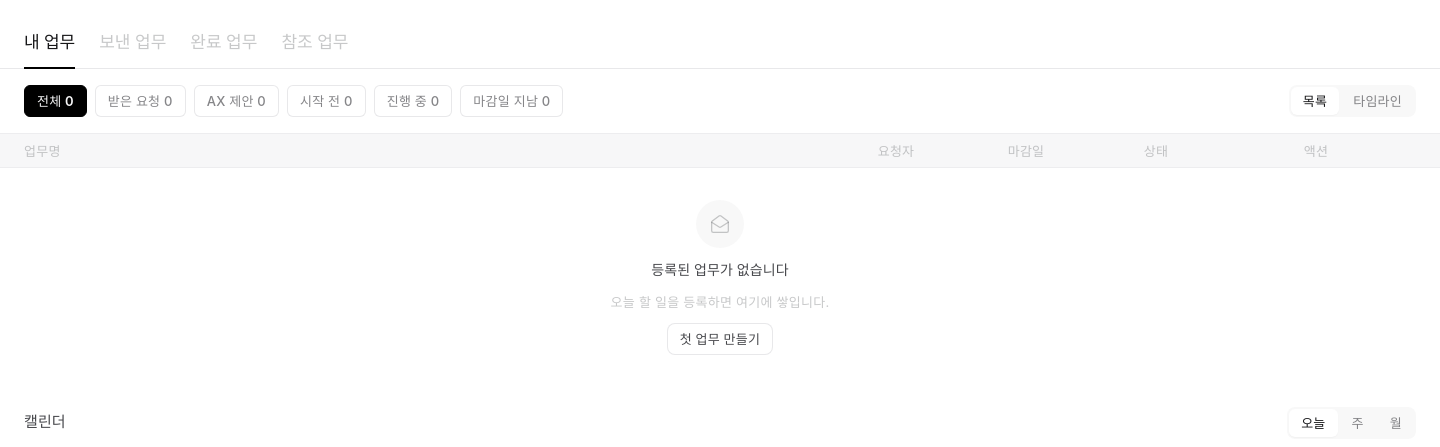
Test: work relation information architecture › keeps requests and assignments in one 보낸 업무 table while telling them apart on the row
(page scrolled)
Step 1. Click the tab "보낸 업무" → (133, 42), box left=99, top=16, right=166, bottom=68
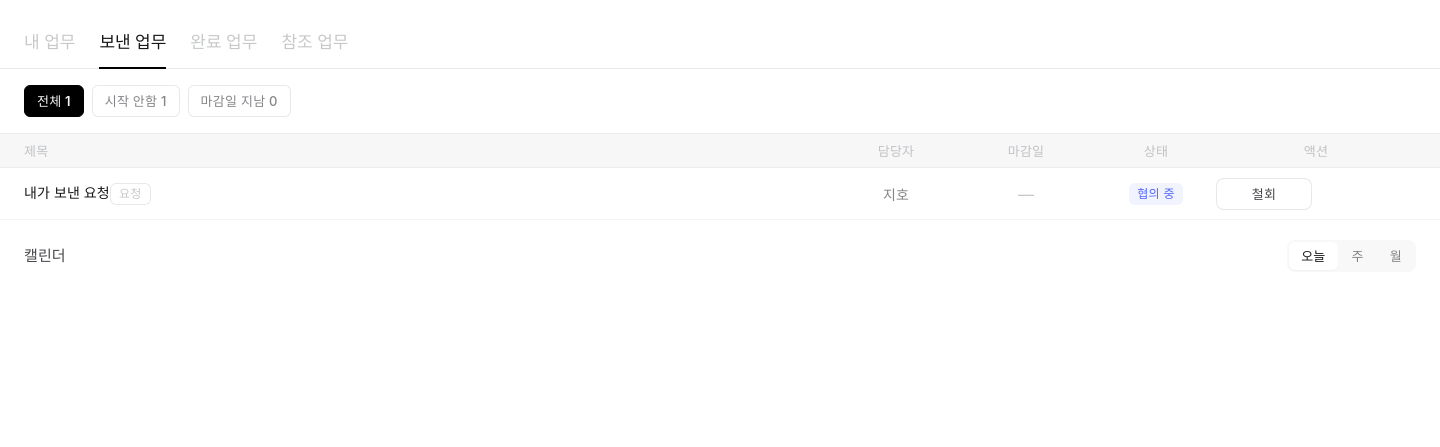
Now the text "내가 보낸 요청" is shown, box left=24, top=184, right=110, bottom=201
Now the text "협의 중" is shown, box left=1129, top=182, right=1183, bottom=204
